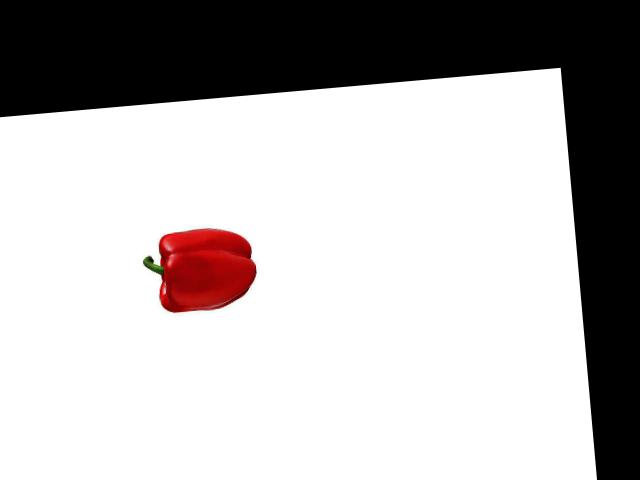bell_pepper: (140, 219, 263, 320)
